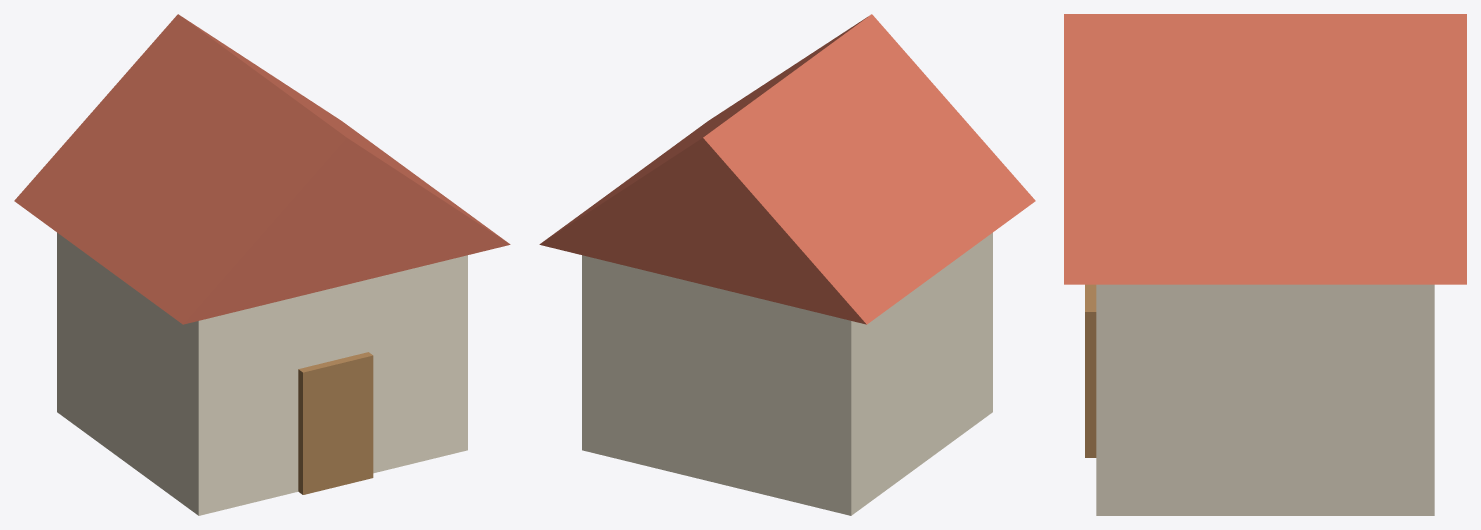
File: tabletop-game-components-house-token-77bf5818__20858.glb
The picture shows the model from 3 angles, left to right: view 1: azimuth 30°, elevation 25°; view 2: azimuth 150°, elevation 25°; view 3: azimuth 270°, elevation 25°; orthographic projection. The views are drawn at different scales.
Parts seen in each view (by area): view 1: house-token; view 2: house-token; view 3: house-token.
Boxes of the visible parts, x1,y1,x2,y2 form: house-token: [14, 14, 510, 515]; house-token: [539, 14, 1035, 515]; house-token: [1064, 14, 1466, 515].
Bounding box in the file's own units: 0.028 × 0.029 × 0.025.
